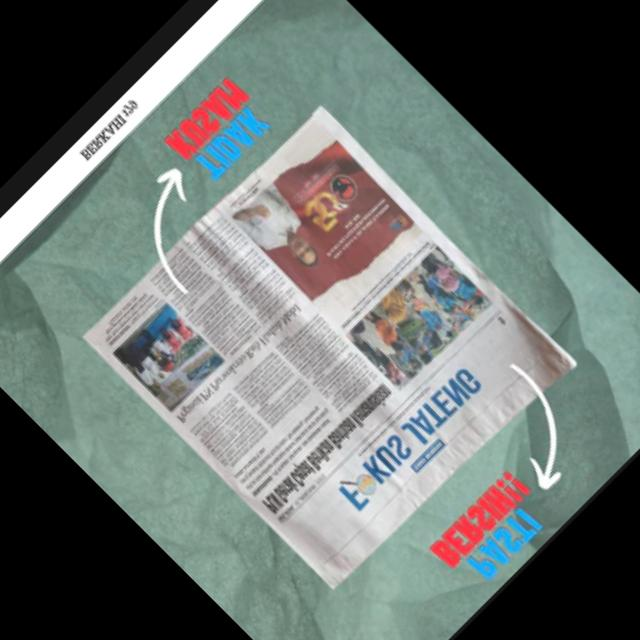Koran: (76, 97, 578, 599), (85, 104, 568, 586)
